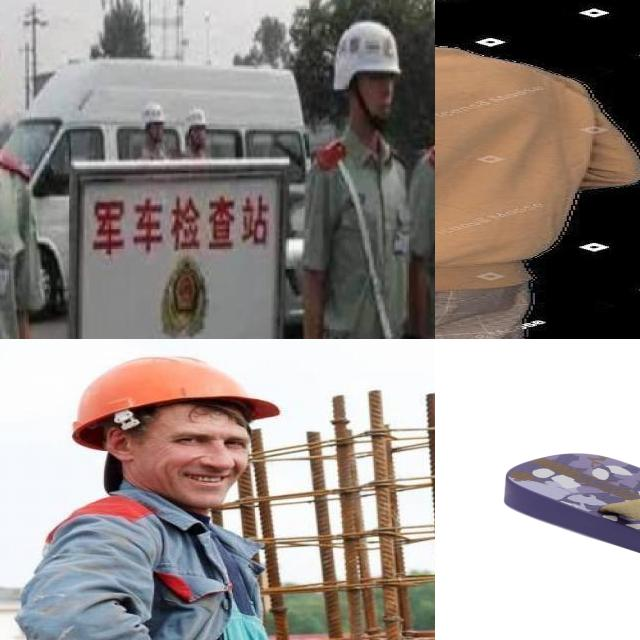No_Ear-Protection: (100, 421, 142, 464)
No_Glasses: (167, 422, 256, 459)
Sandals: (499, 443, 640, 604)
face_nomask: (158, 422, 254, 502), (365, 75, 402, 118)
head_helmet: (69, 352, 285, 441), (333, 16, 400, 78)
person: (20, 344, 301, 640), (435, 0, 640, 339), (298, 6, 420, 339)
